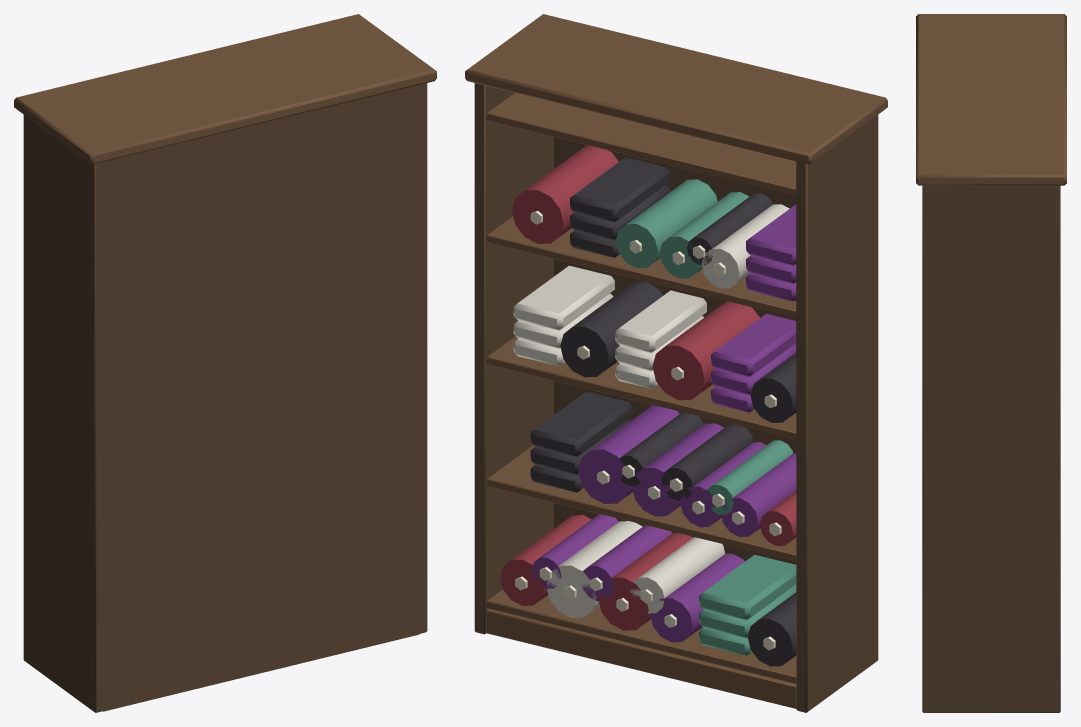
File: gu_stoffe.fbx
The picture shows the model from 3 angles, left to right: view 1: azimuth 30°, elevation 25°; view 2: azimuth 150°, elevation 25°; view 3: azimuth 270°, elevation 25°; orthographic projection. The views are drawn at different scales.
Visible parts, largest first — view 1: gu_stoffe_legno, gu_stoffe_noce; view 2: gu_stoffe_legno, gu_stoffe_noce, gu_stoffe_panno, gu_stoffe_seta, gu_stoffe_lenzuolo, gu_stoffe_tessuto, gu_stoffe_velluto, gu_stoffe_cera; view 3: gu_stoffe_legno, gu_stoffe_noce.
Boxes of the visible parts, x1,y1,x2,y2 form: gu_stoffe_legno: [23, 83, 427, 712]; gu_stoffe_noce: [14, 14, 436, 164]; gu_stoffe_legno: [474, 83, 878, 712]; gu_stoffe_noce: [465, 14, 887, 708]; gu_stoffe_panno: [530, 157, 796, 666]; gu_stoffe_seta: [532, 204, 796, 642]; gu_stoffe_lenzuolo: [513, 204, 789, 617]; gu_stoffe_tessuto: [500, 145, 796, 630]; gu_stoffe_velluto: [616, 179, 796, 655]; gu_stoffe_cera: [515, 210, 781, 650]; gu_stoffe_legno: [922, 185, 1060, 712]; gu_stoffe_noce: [916, 14, 1066, 185].
Size of the model in its own units: 1.25 by 1.94 by 0.49.
